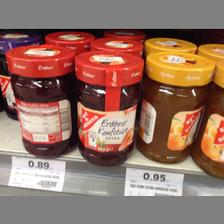Marmelade: (137, 50, 215, 162), (72, 49, 144, 167), (4, 43, 76, 158)
